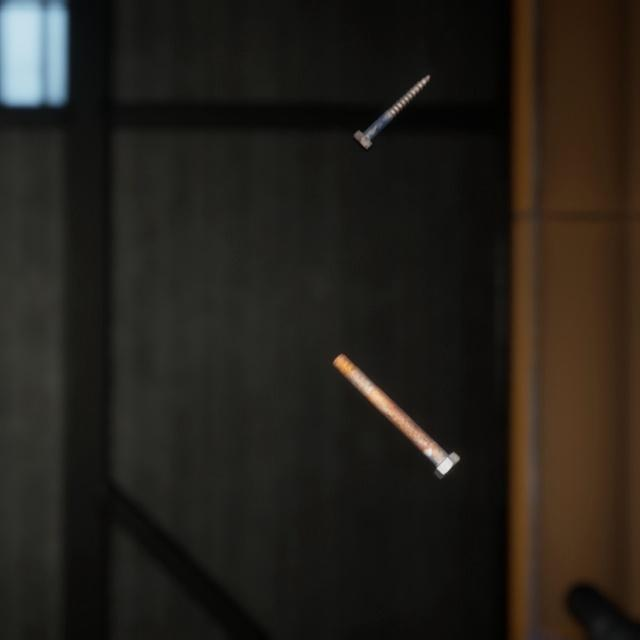bolt: (328, 330, 464, 464), (348, 59, 435, 144)
